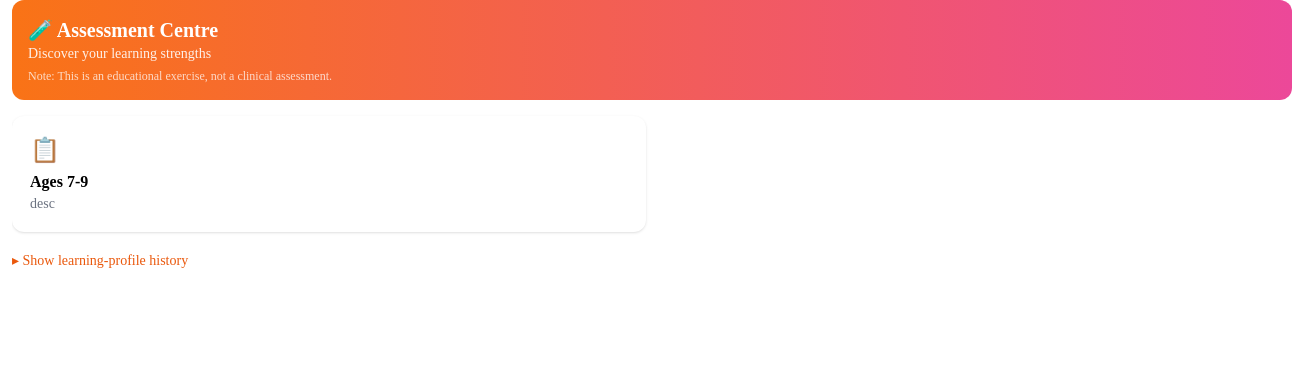
Test: AssessmentCentre › shows a learning-profile history with a retake action for weak spots
This screenshot has width=1292, height=375.
Expected: the text "Ages 7-9" is shown, 30,173 -> 88,190
Step 1. Click the button "▸ Show learning-profile history" → {"x": 100, "y": 261}, box 12,251 -> 188,271
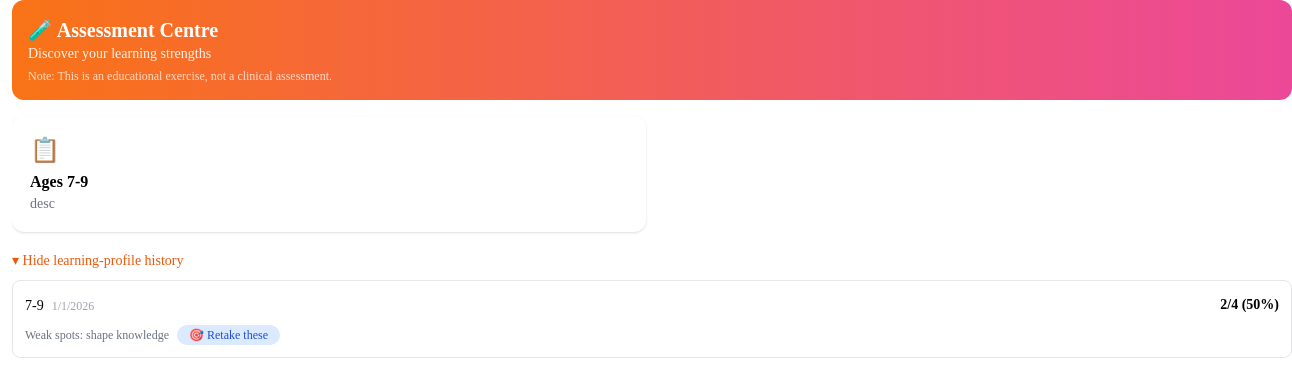
Expected: the text "Weak spots: shape knowledge" is shown, 25,327 -> 169,343
Expected: the button "🎯 Retake these" is shown, 177,325 -> 280,345
